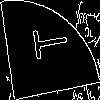T: (24, 24, 69, 62)
